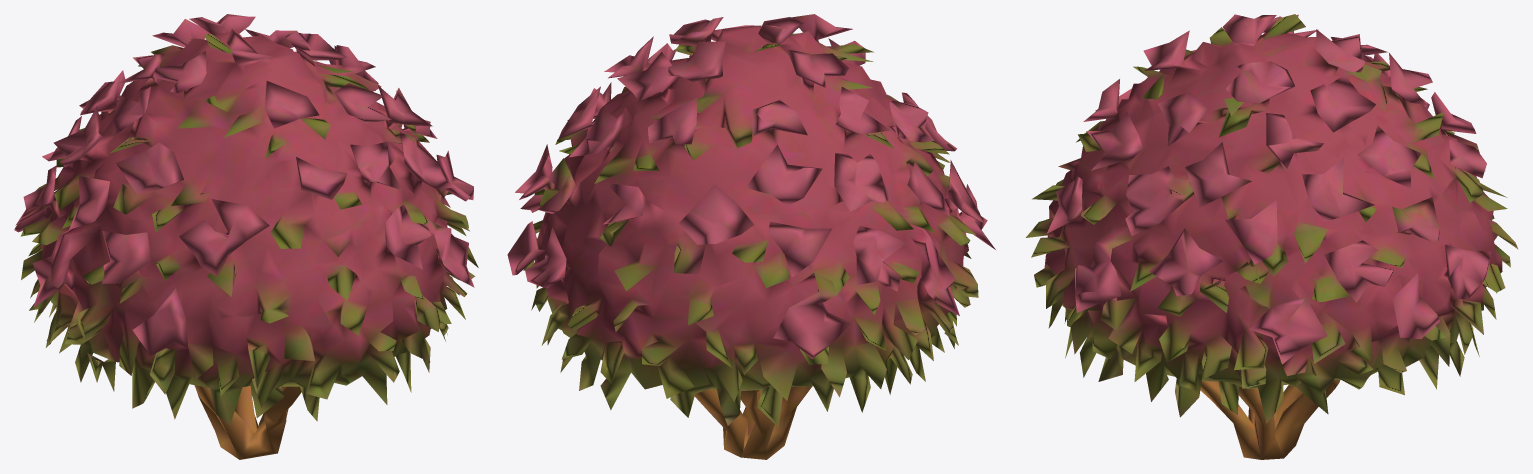
Rendered from bougain.glb.
3 views of the same model, side by side, from view 1: azimuth 30°, elevation 25°; view 2: azimuth 150°, elevation 25°; view 3: azimuth 270°, elevation 25° (orthographic). The views are drawn at different scales.
Visible parts, largest first — view 1: tripo_node_bc49fd87-4bde-49da-8a6c-c4db77d4e2f1; view 2: tripo_node_bc49fd87-4bde-49da-8a6c-c4db77d4e2f1; view 3: tripo_node_bc49fd87-4bde-49da-8a6c-c4db77d4e2f1.
Boxes of the visible parts, box(x1,y1,x2,y2) form: tripo_node_bc49fd87-4bde-49da-8a6c-c4db77d4e2f1: box(14, 14, 478, 459); tripo_node_bc49fd87-4bde-49da-8a6c-c4db77d4e2f1: box(507, 14, 995, 459); tripo_node_bc49fd87-4bde-49da-8a6c-c4db77d4e2f1: box(1026, 14, 1518, 459).
Bounding box in the file's own units: 0.9939 × 0.9568 × 1.
Materials: 1 (1 with a texture image).
